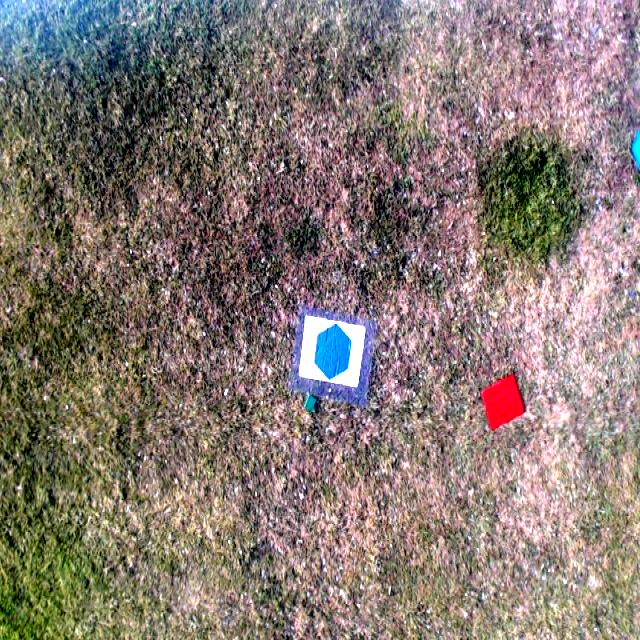blue_hexagon: (312, 322, 352, 381)
red_square: (478, 375, 526, 430)
